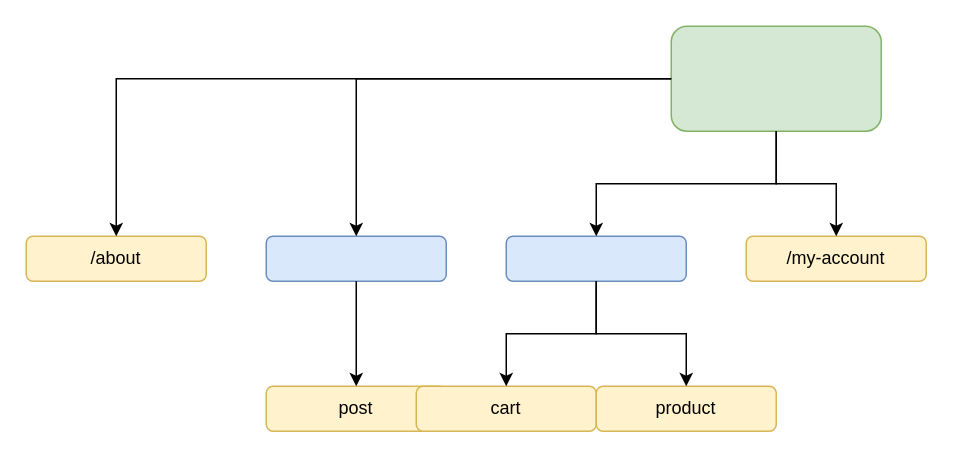
The diagram is 953 pixels wide and 458 high, and some of its shapes have lost their labels. The shapes that lost their labels are listed below. From the top down, each one's centre as x and y in pixels, then its label:
At (x=775, y=78): "ginandjuice.shop".
At (x=355, y=258): "/blog".
At (x=595, y=258): "/catalog".
